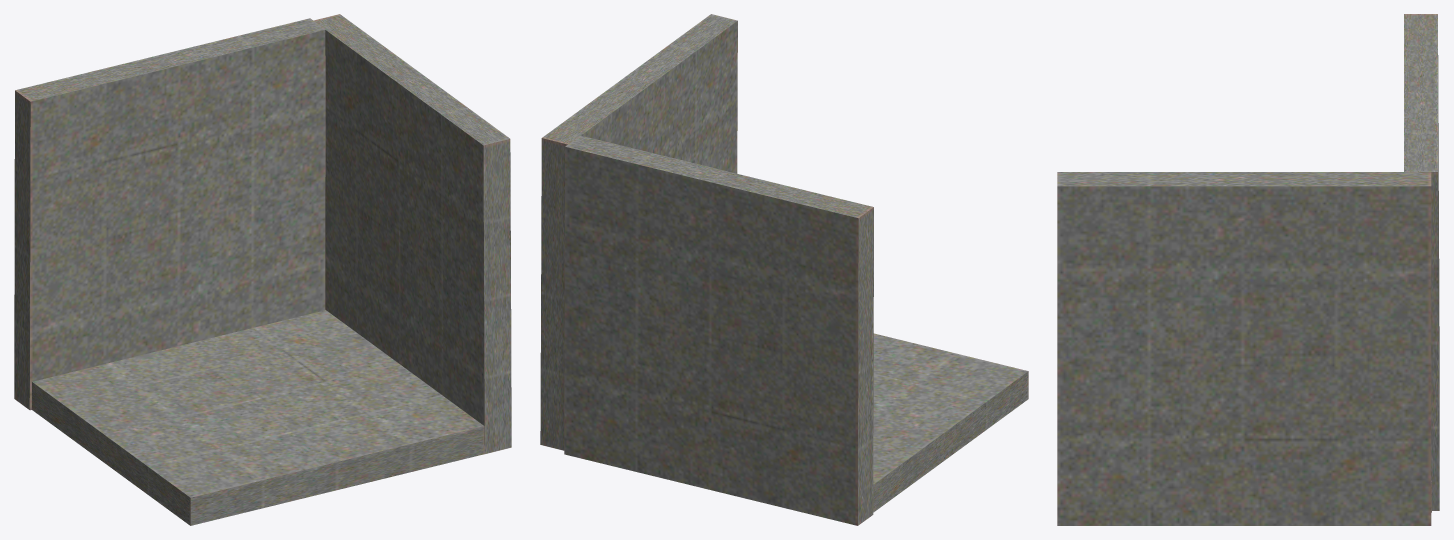
The model's file is corner.obj.
3 renders of one model, left to right at view 1: azimuth 30°, elevation 25°; view 2: azimuth 150°, elevation 25°; view 3: azimuth 270°, elevation 25°, orthographic. The views are drawn at different scales.
Visible parts, largest first — view 1: Wall.001, Floor01, Wall; view 2: Wall.001, Wall, Floor01; view 3: Wall, Wall.001.
Part boxes in pixels (x1,y1,x2,y2): Wall.001: [14, 18, 325, 410]; Floor01: [32, 310, 484, 525]; Wall: [314, 14, 511, 453]; Wall.001: [564, 135, 873, 525]; Wall: [540, 14, 737, 450]; Floor01: [873, 333, 1028, 512]; Wall: [1057, 172, 1431, 525]; Wall.001: [1404, 14, 1439, 510].
Size of the model in its own units: 4.38 by 4 by 4.09.
